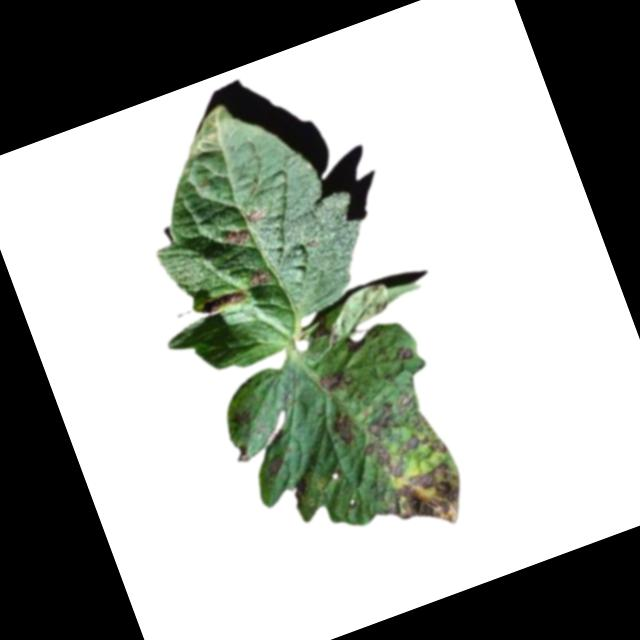Early_blight: (375, 458, 473, 543), (357, 433, 407, 487), (399, 425, 448, 467), (358, 397, 399, 438), (322, 404, 356, 447), (199, 286, 247, 316), (306, 313, 342, 351), (216, 222, 254, 256), (317, 365, 352, 398), (258, 450, 289, 482), (225, 407, 255, 435), (243, 264, 269, 292), (388, 342, 415, 365), (242, 204, 268, 226)
